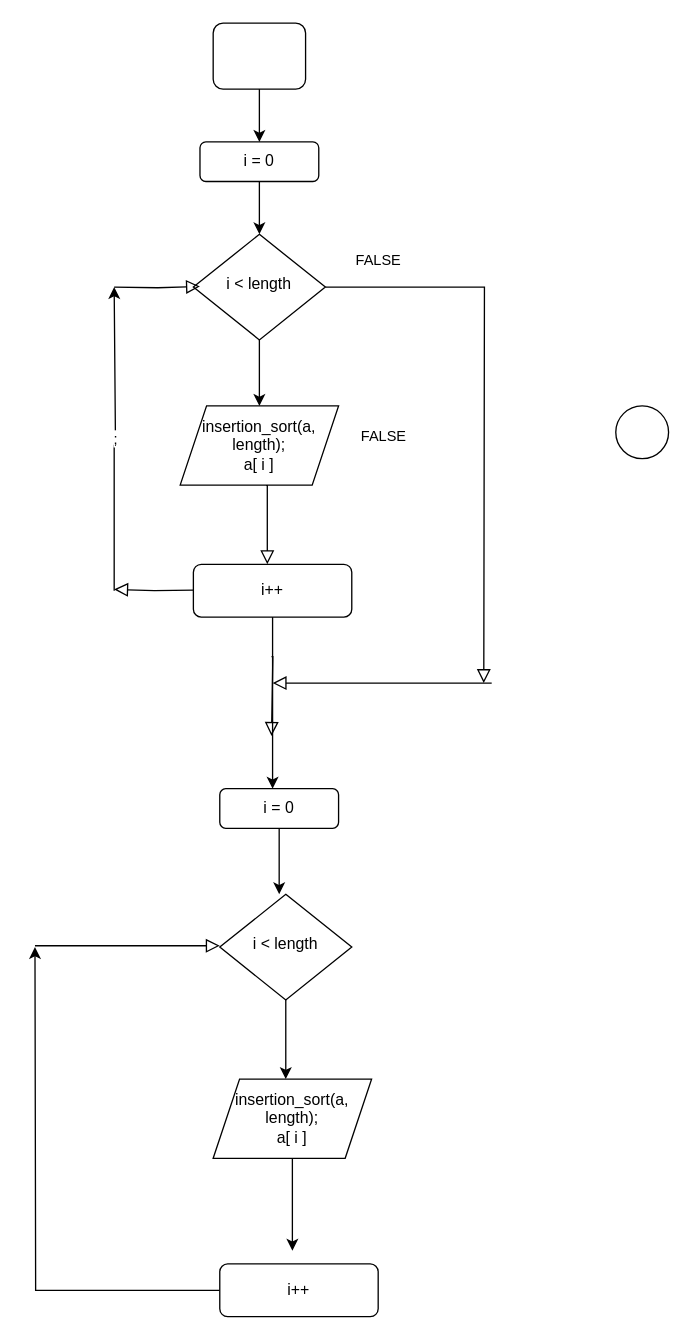
The diagram is 692 pixels wide and 1340 high, and some of its shapes have lost their labels. The centre of each missing label's shape, as x and y in pixels:
"END" goes at [641,432].
"START" goes at [259,55].
